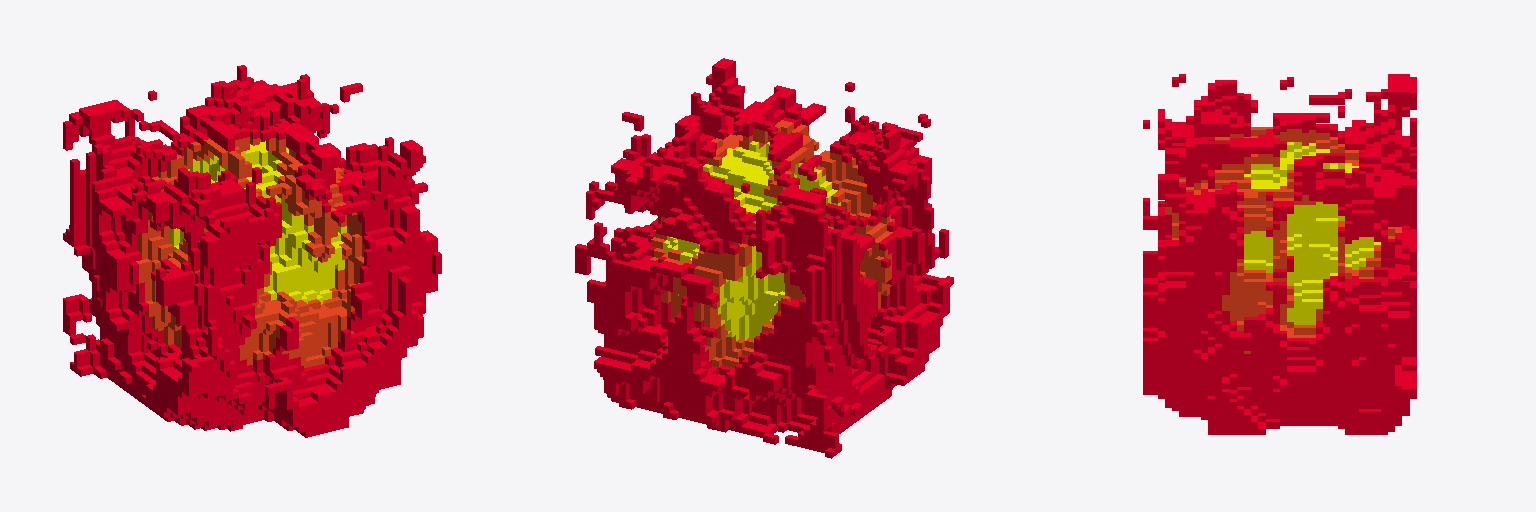
The picture shows the model from 3 angles: view 1: azimuth 30°, elevation 25°; view 2: azimuth 150°, elevation 25°; view 3: azimuth 270°, elevation 25°; orthographic projection.
Parts seen in each view (by area): view 1: object 1; view 2: object 1; view 3: object 1.
Part boxes in pixels (left/top/right/bottom): object 1: left=63, top=65, right=441, bottom=437; object 1: left=575, top=58, right=953, bottom=458; object 1: left=1143, top=74, right=1416, bottom=434.
Size of the model in its own units: 4 by 3.9 by 3.8.
1 materials, 1 textured.